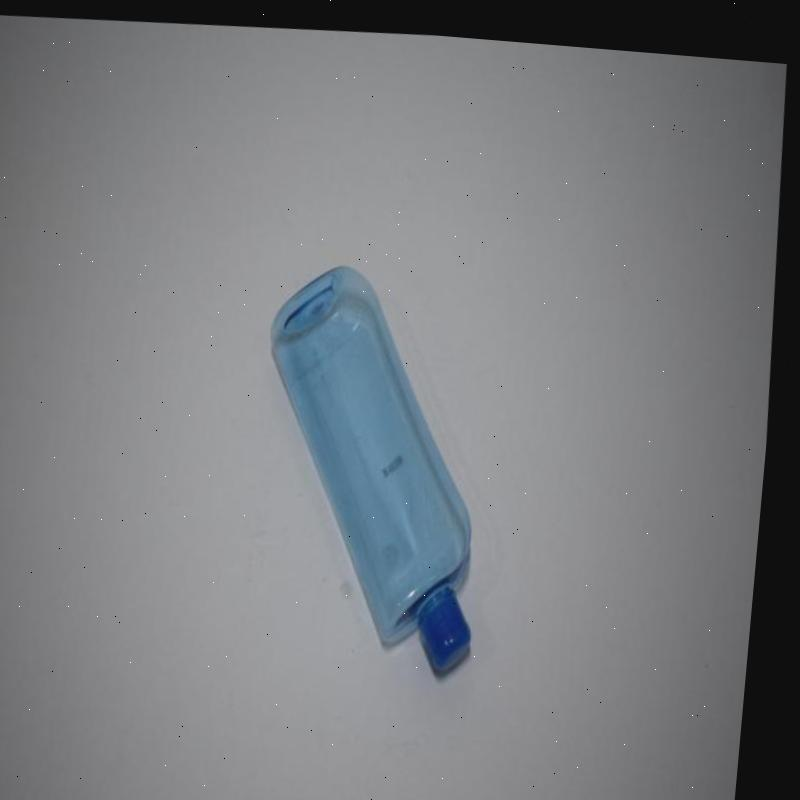botella: (247, 251, 507, 675)
